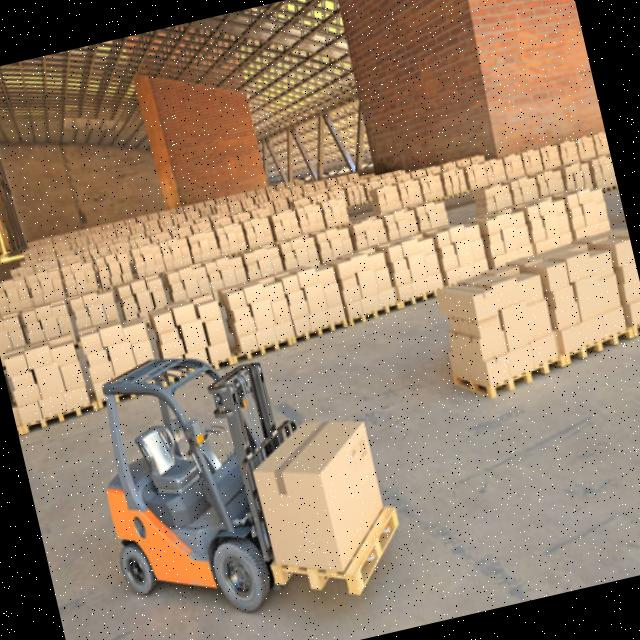Wooden-Pallets: (270, 498, 408, 603), (451, 352, 563, 405), (16, 393, 105, 450), (554, 320, 640, 377), (345, 293, 407, 339), (291, 314, 354, 347)
